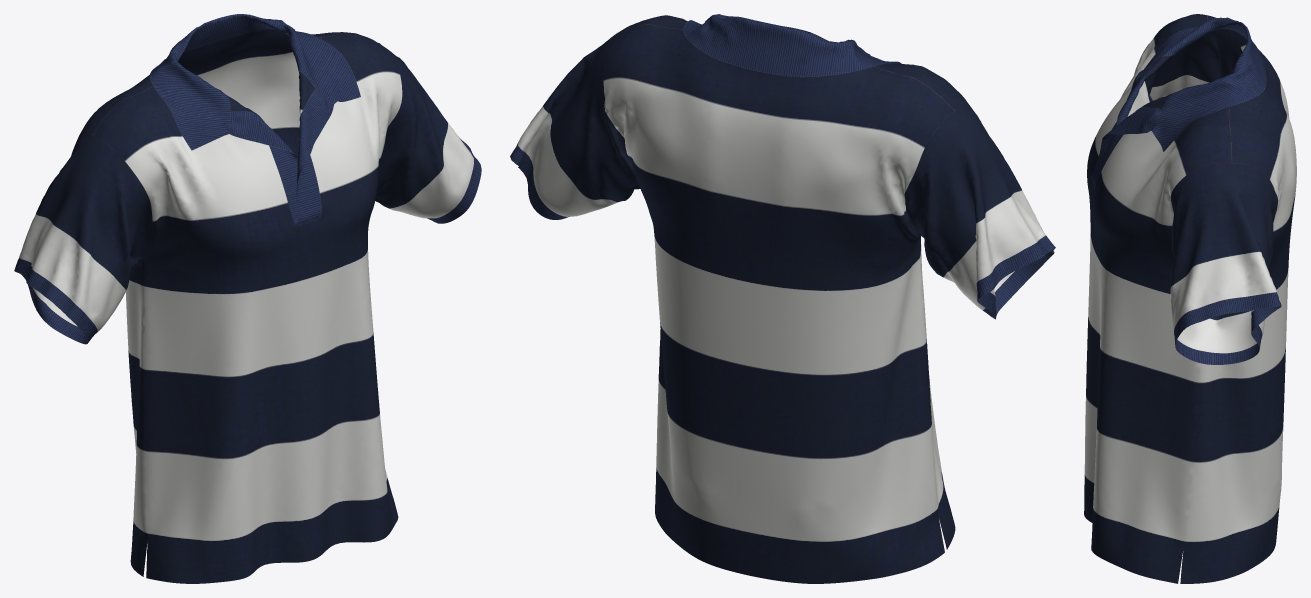
The model's file is Tshirt1.glb.
3 views of the same model, side by side, from view 1: azimuth 30°, elevation 25°; view 2: azimuth 150°, elevation 25°; view 3: azimuth 270°, elevation 25° (orthographic). The views are drawn at different scales.
Parts seen in each view (by area): view 1: Tshirt; view 2: Tshirt; view 3: Tshirt.
Boxes of the visible parts, x1,y1,x2,y2 form: Tshirt: [14, 14, 481, 583]; Tshirt: [510, 14, 1055, 583]; Tshirt: [1084, 14, 1296, 583].
Size of the model in its own units: 0.6777 by 0.7129 by 0.2765.
Materials: 1 (1 with a texture image).
